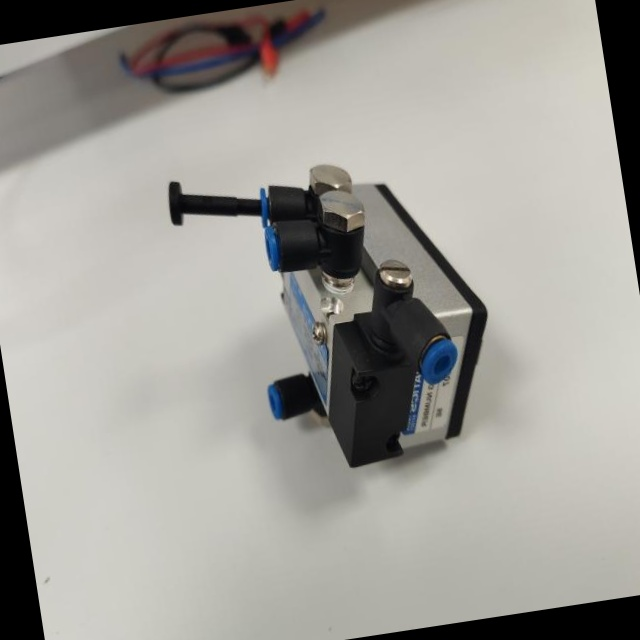5by2 DCV: (153, 129, 514, 504)
